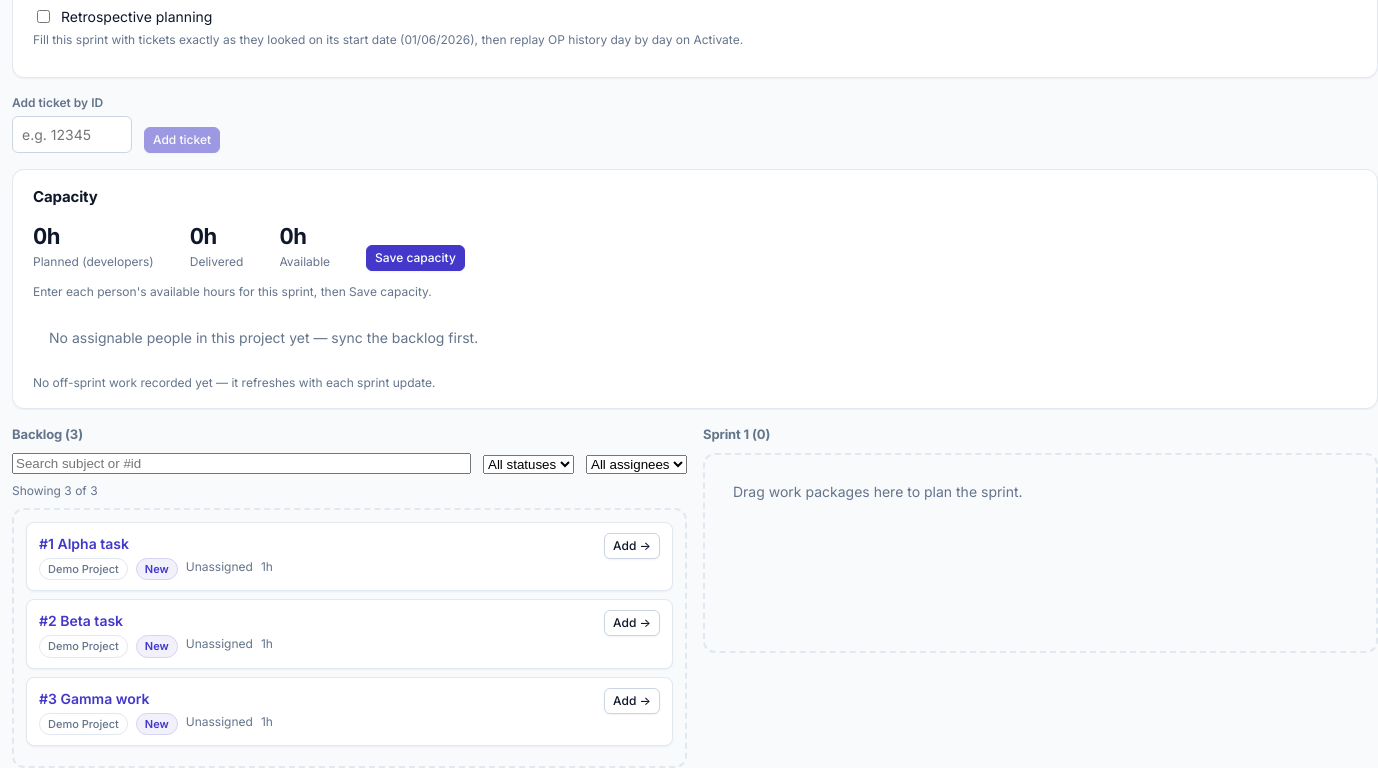
SprintBoardScreen › filters the backlog by search text scoped to the backlog column
This screenshot has width=1378, height=768.
(page scrolled)
Check: the link "#1 Alpha task" is shown, box [39,534,129,552]
Check: the link "#2 Beta task" is shown, box [39,612,123,629]
Step 1. Type "Alpha" into the field named "Search backlog" → (242, 463), box [12,452,471,474]
(page scrolled)
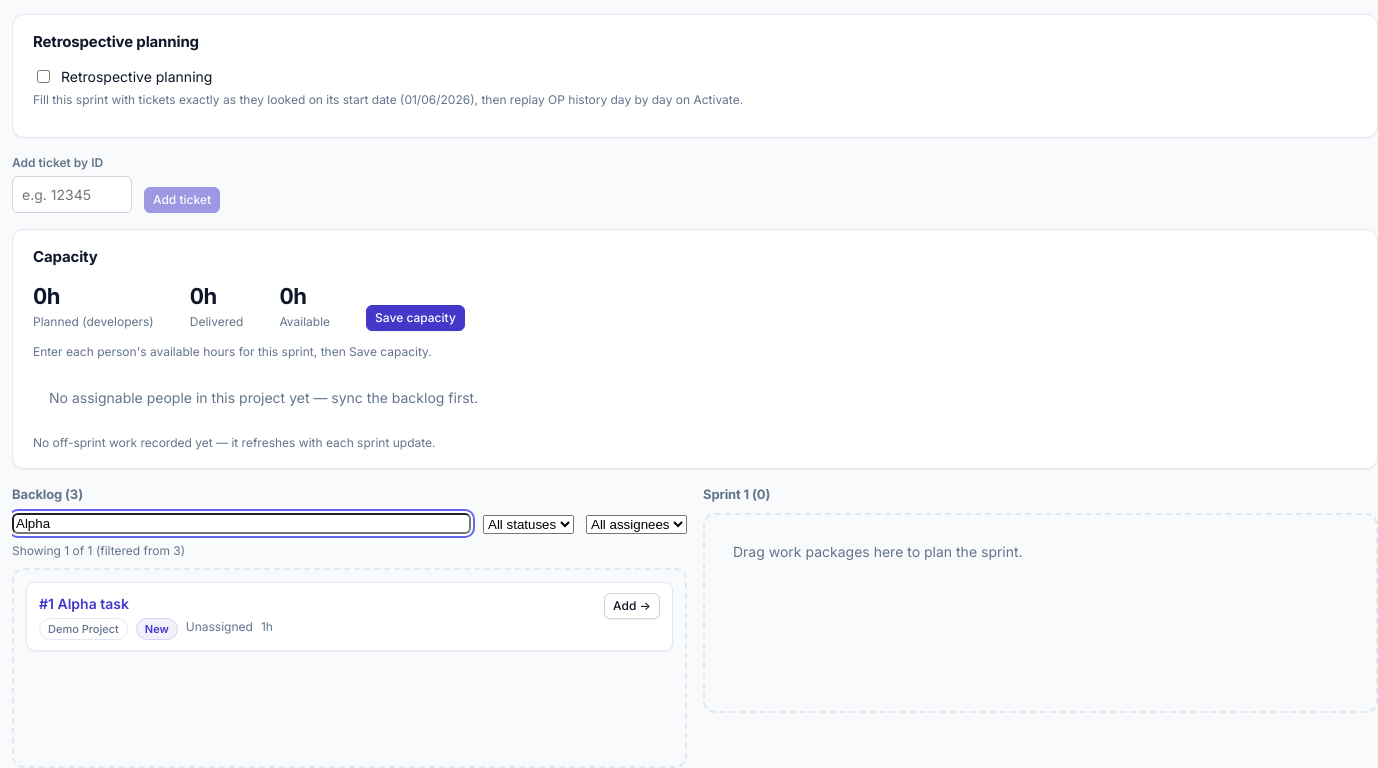
Check: the link "#1 Alpha task" is shown, box [39,594,129,612]
Check: the link "Beta task" is gone
Check: the text "Showing 1 of 1 (filtered from 3)" is shown, box [12,542,185,558]
